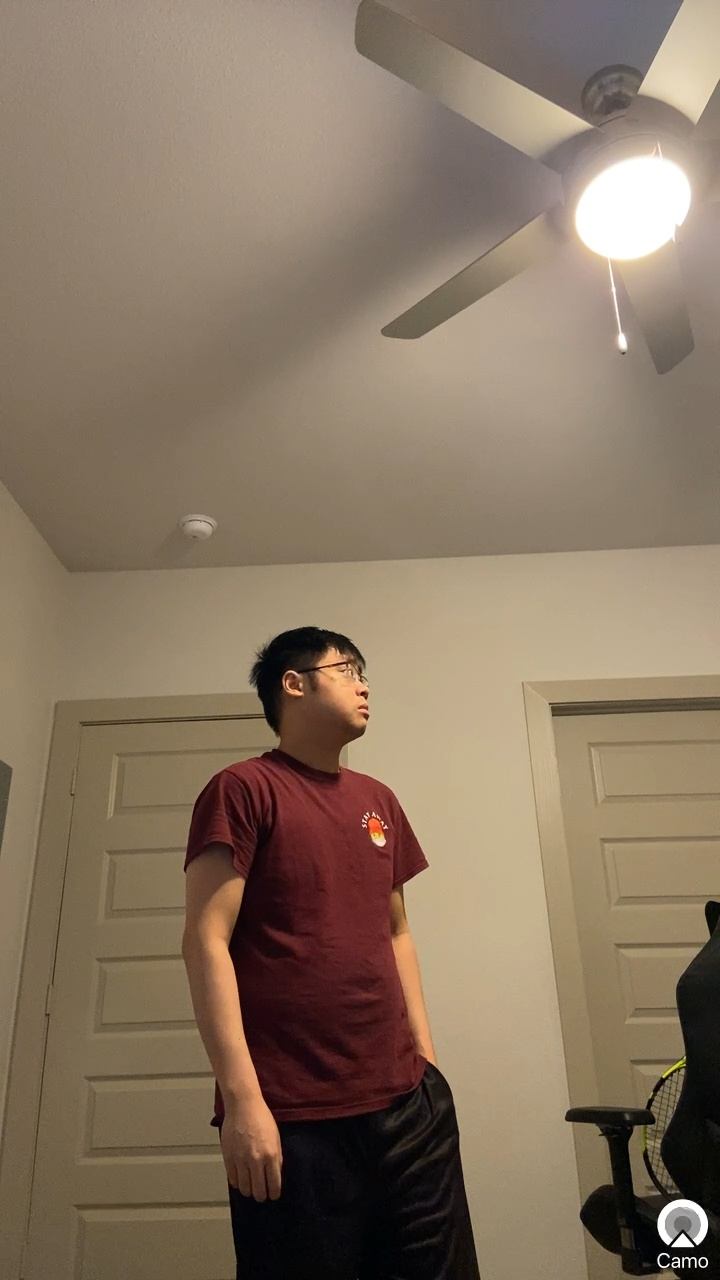Person: (148, 616, 514, 1280)
